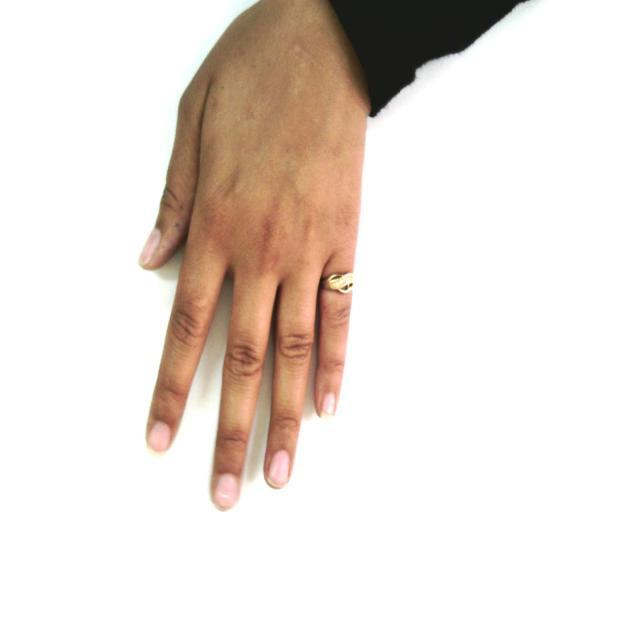Fingernail: (138, 229, 162, 266), (267, 450, 290, 487), (147, 421, 172, 454), (216, 474, 238, 508), (321, 392, 336, 422)
